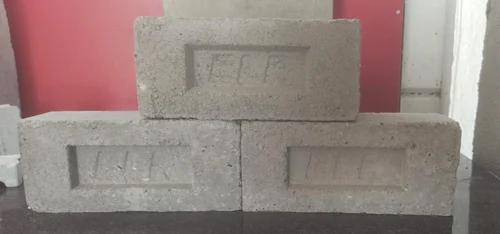brick: (135, 18, 362, 120), (242, 121, 462, 216), (20, 119, 240, 213)
